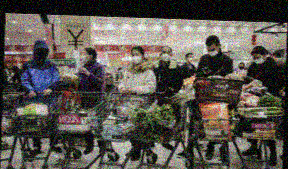with_mask: (129, 51, 142, 65), (250, 53, 266, 64), (205, 46, 219, 58), (36, 46, 48, 59), (160, 49, 171, 63), (80, 50, 89, 64), (186, 54, 195, 63), (238, 63, 244, 70), (7, 68, 12, 73), (4, 67, 8, 72), (118, 68, 122, 72)
